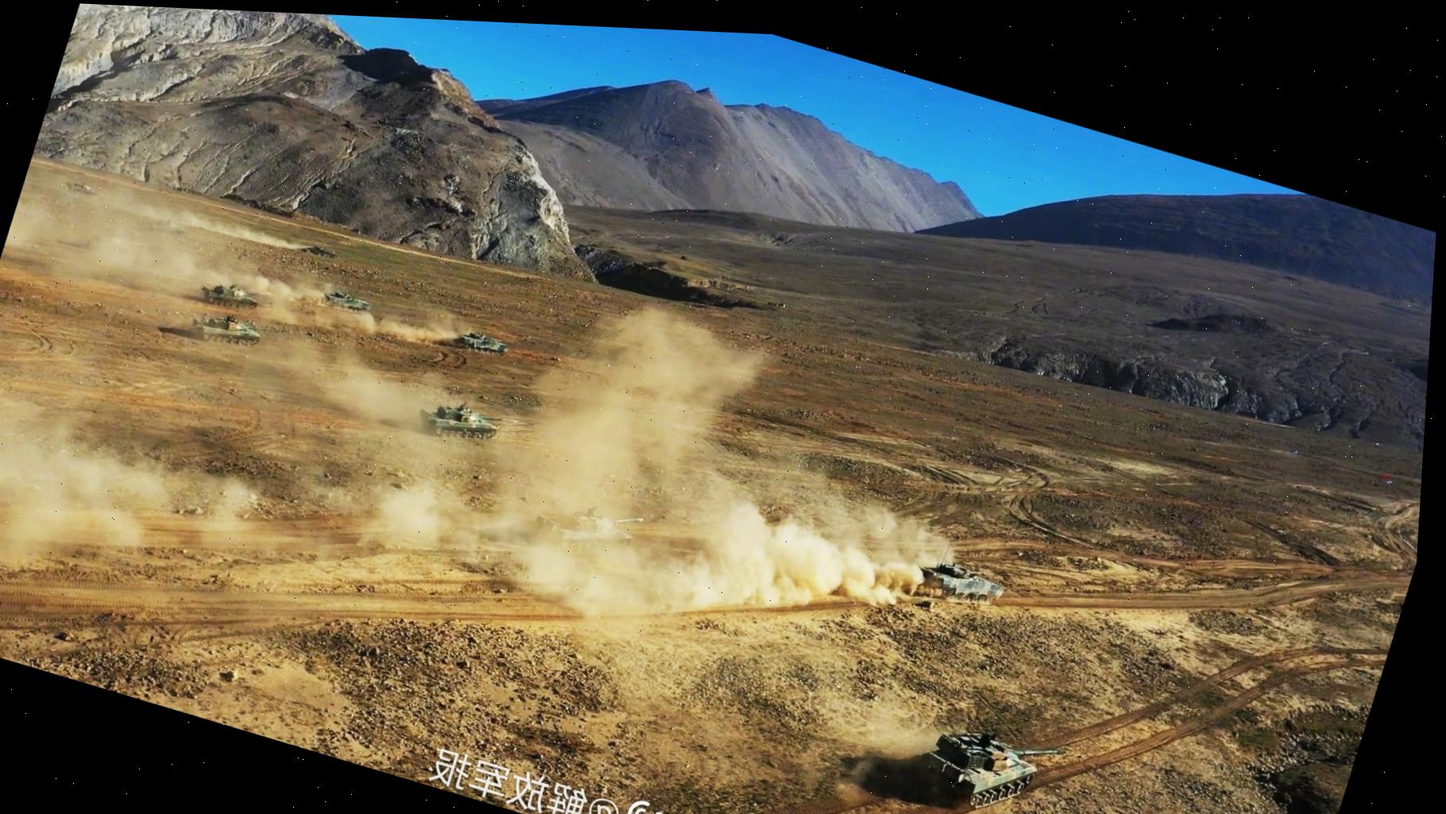armored_car: (909, 550, 1013, 620), (182, 302, 263, 361), (314, 281, 376, 321), (454, 325, 511, 362)
tank: (912, 714, 1046, 814), (404, 382, 510, 464)
